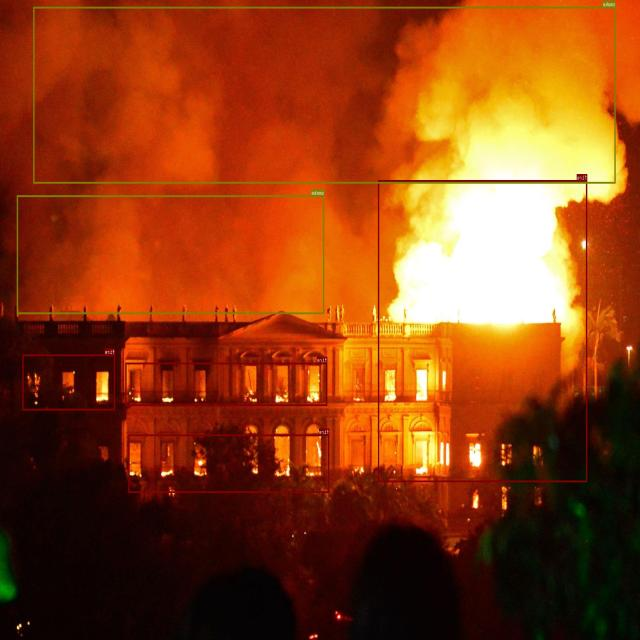fire: (378, 180, 588, 482), (129, 434, 329, 493), (126, 362, 327, 406), (23, 354, 115, 410)
smoke: (34, 6, 616, 183), (17, 195, 325, 314)
